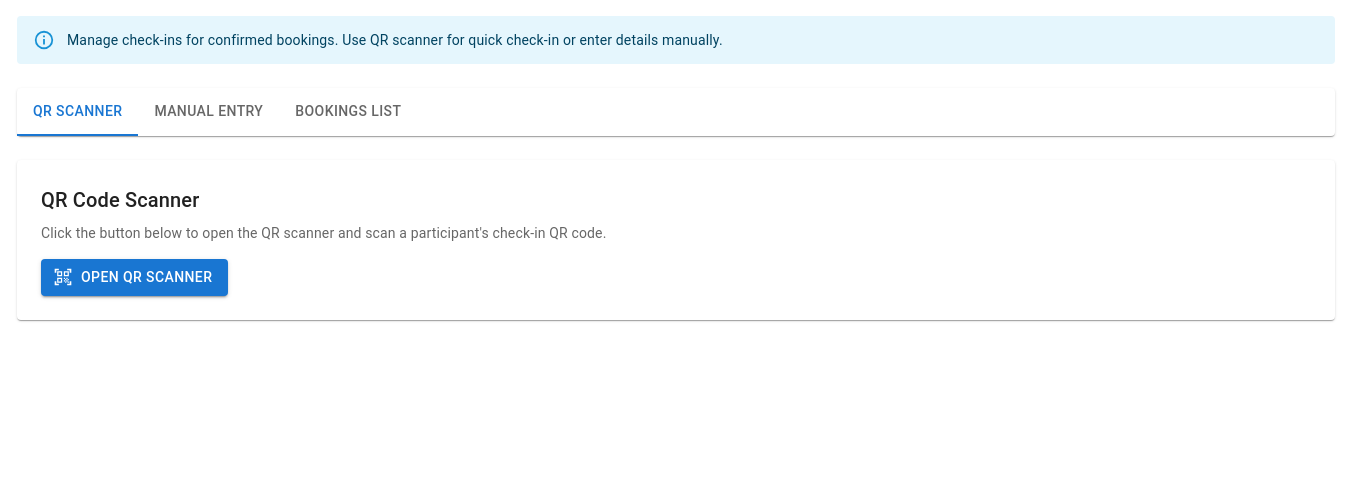
Test: AdminCheckInManagement › should switch to bookings list tab
Click the tab "Bookings List" at point(348, 112), box [279,88,417,136]
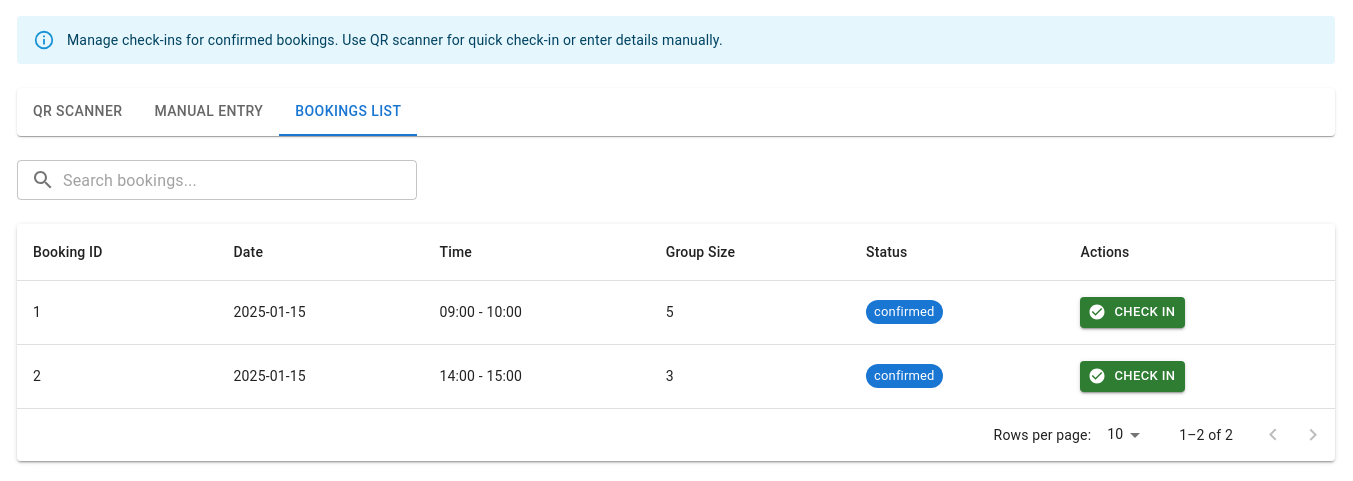
Now the field with placeholder "Search bookings..." is shown, box [63,160,417,200]
Now the column heading "Booking ID" is shown, box [17,224,218,280]
Now the column heading "Date" is shown, box [218,224,424,280]
